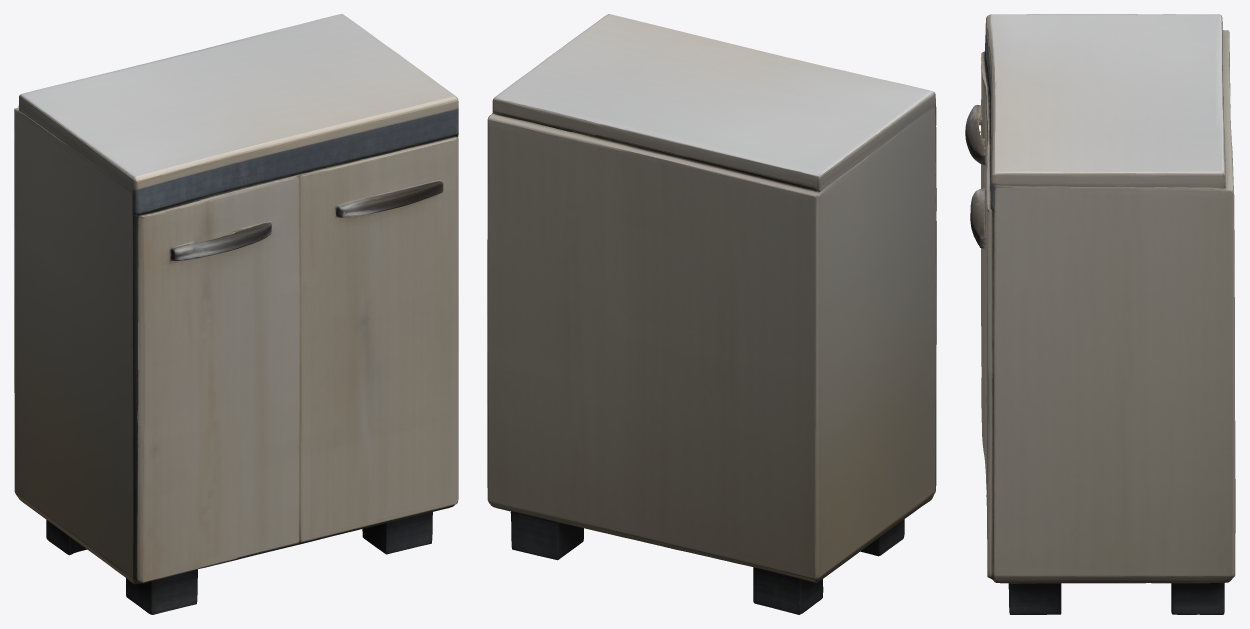
Rendered from 22488_vegas_2door.glb.
3 renders of one model, left to right at view 1: azimuth 30°, elevation 25°; view 2: azimuth 150°, elevation 25°; view 3: azimuth 270°, elevation 25°, orthographic.
Visible parts, largest first — view 1: world; view 2: world; view 3: world.
Part boxes in pixels (<box>): world: <box>14,14,458,614</box>; world: <box>487,14,936,614</box>; world: <box>965,14,1235,614</box>.
Size of the model in its own units: 0.766 by 1 by 0.5421.
1 material, 1 textured.
